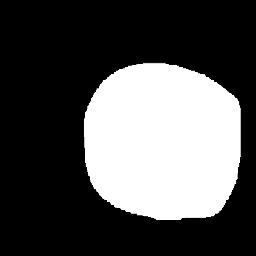mass: (83, 66, 228, 210)
